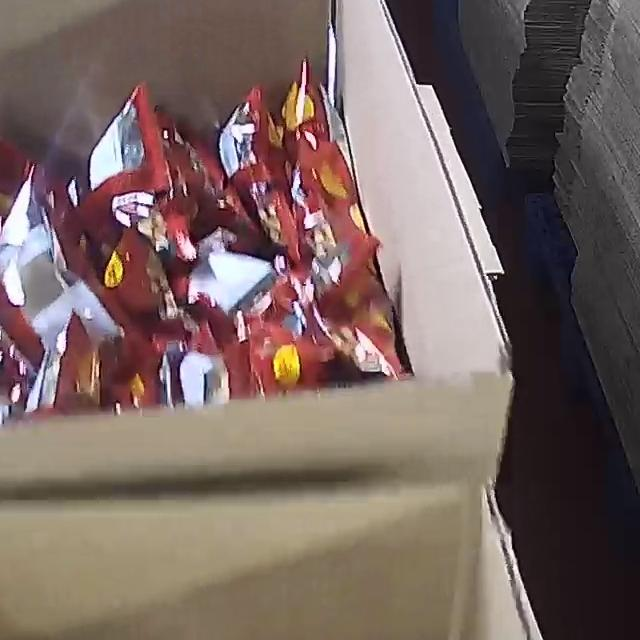masala: (0, 54, 408, 436)
